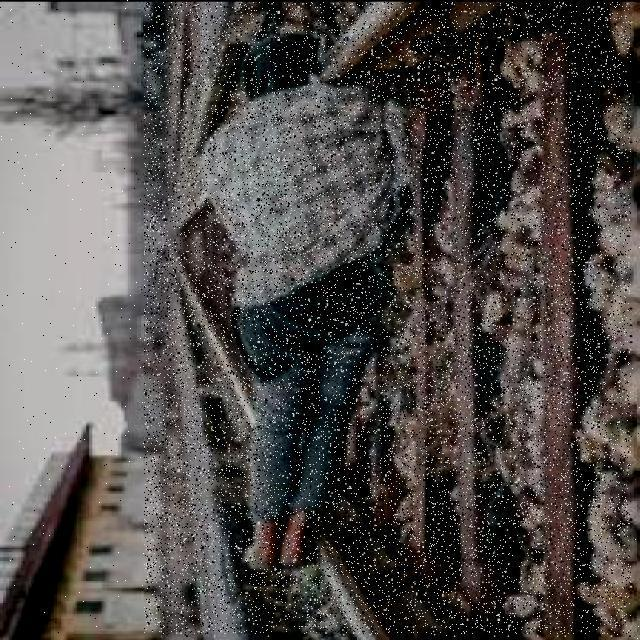danger: (228, 24, 383, 574)
rail: (145, 2, 631, 634)
